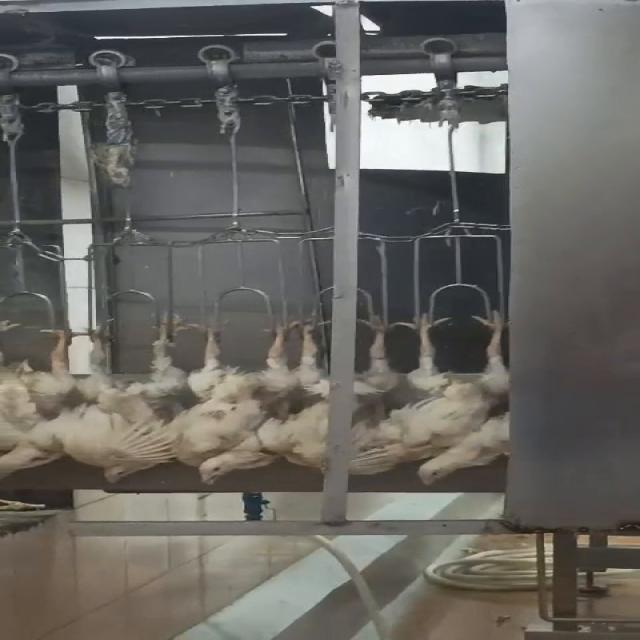chicken: (343, 306, 507, 476), (174, 314, 312, 489), (59, 310, 192, 487), (292, 307, 406, 480), (0, 298, 80, 481), (412, 412, 522, 488)
